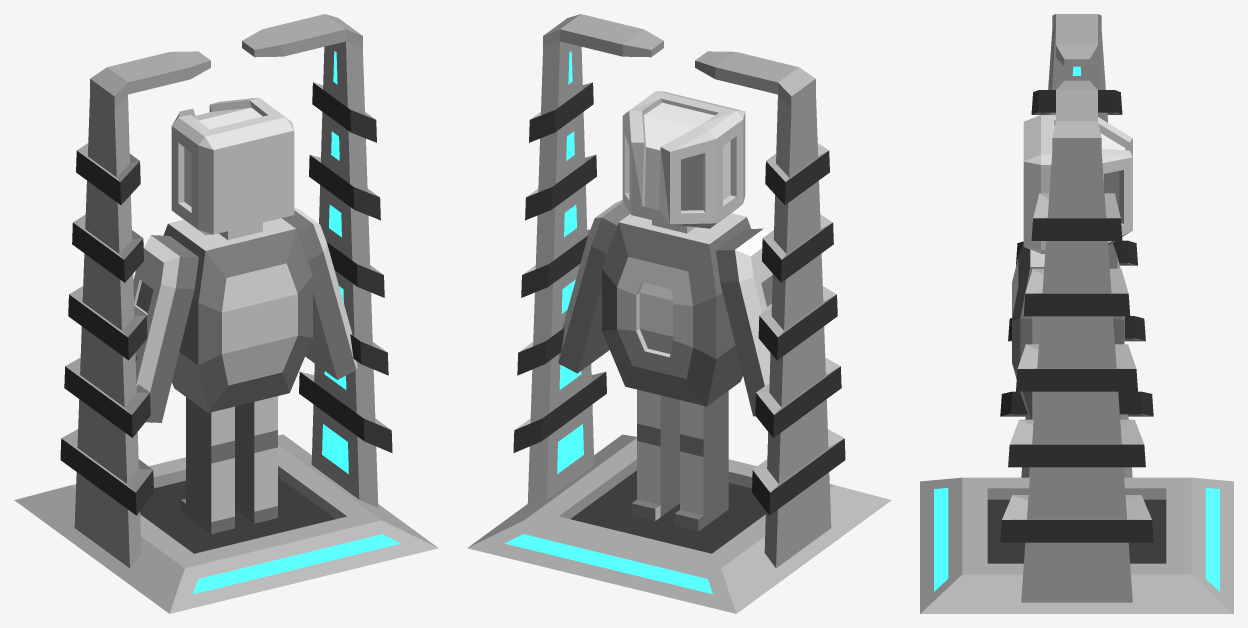
File: Suit_Stand.fbx
The picture shows the model from 3 angles, left to right: view 1: azimuth 30°, elevation 25°; view 2: azimuth 150°, elevation 25°; view 3: azimuth 270°, elevation 25°; orthographic projection.
Parts seen in each view (by area): view 1: Cube, Suit; view 2: Cube, Suit; view 3: Cube, Suit.
Part boxes in pixels (x1,y1,x2,y2): Cube: [14, 14, 438, 613]; Suit: [133, 97, 357, 534]; Cube: [467, 14, 891, 613]; Suit: [558, 91, 772, 531]; Cube: [920, 14, 1233, 613]; Suit: [1012, 115, 1132, 419].
Bounding box in the file's own units: 2 × 3.38 × 2.
